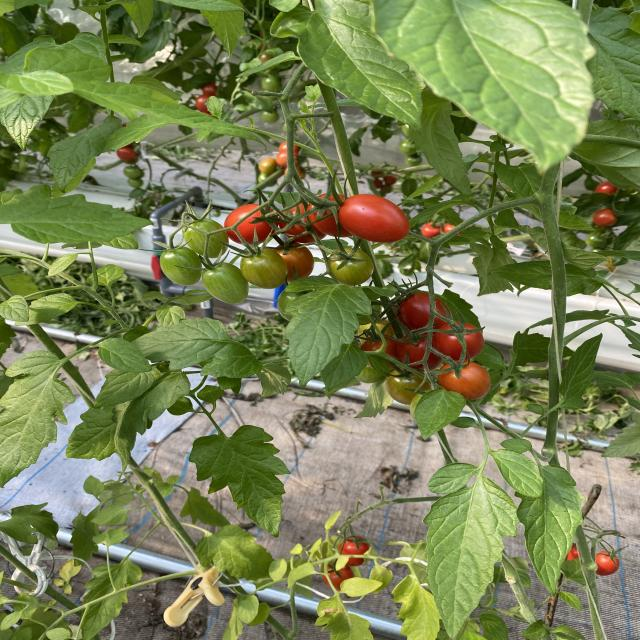c-half-riped: (437, 360, 492, 401), (240, 245, 288, 290), (384, 366, 432, 406), (274, 242, 314, 282), (358, 317, 396, 345)
c-riped: (336, 193, 409, 243), (223, 203, 280, 246), (431, 319, 484, 361), (401, 292, 452, 334), (306, 194, 354, 238), (395, 332, 446, 372), (278, 204, 328, 243), (361, 334, 404, 371), (337, 535, 373, 567), (322, 560, 355, 592)
c-unriped: (202, 263, 250, 304), (182, 218, 230, 259), (159, 246, 204, 287), (328, 246, 374, 286), (276, 289, 315, 322), (356, 365, 390, 384)
